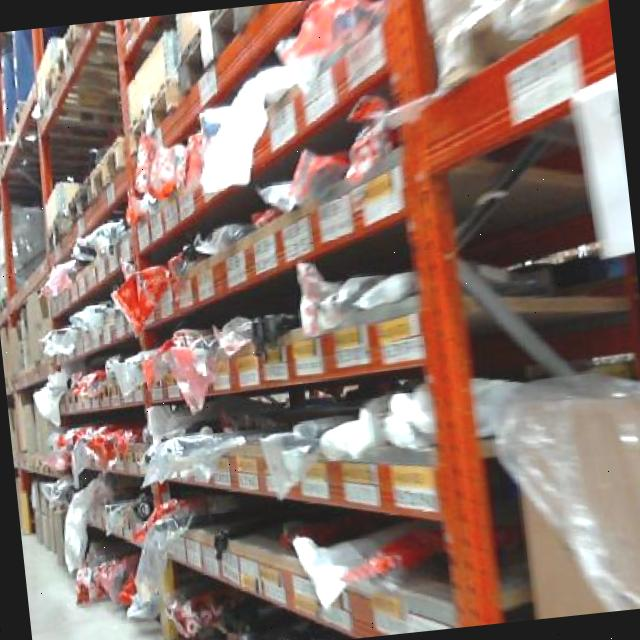pallet: (71, 123, 135, 206)
